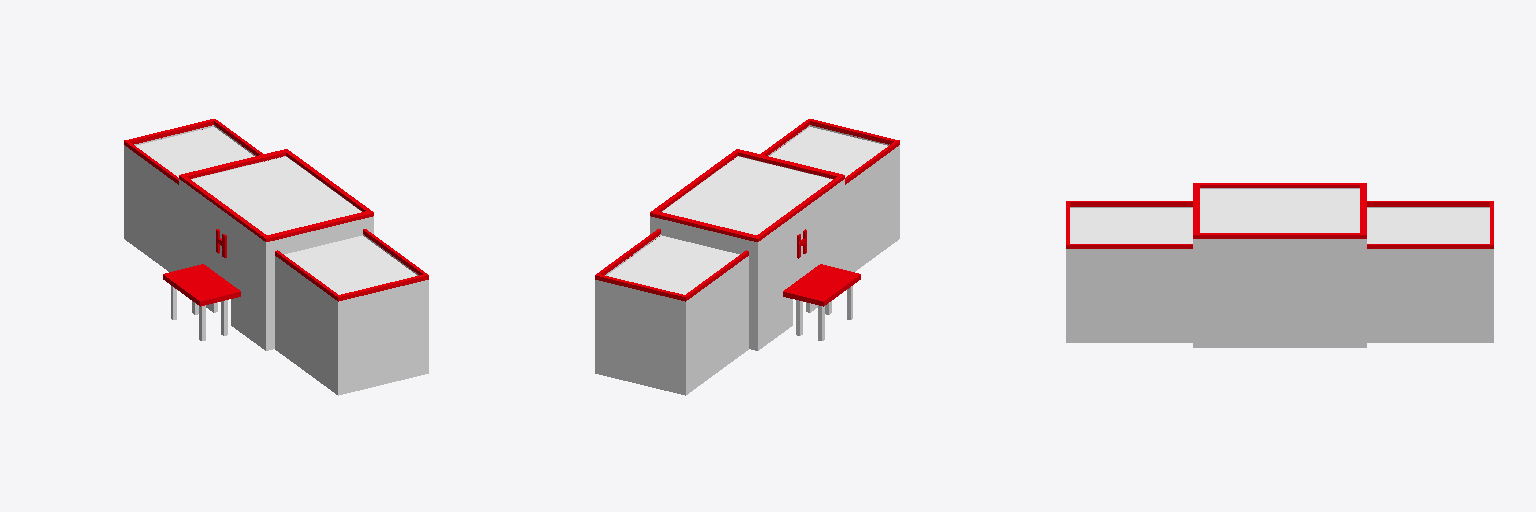
3 renders of one model, left to right at view 1: azimuth 30°, elevation 25°; view 2: azimuth 150°, elevation 25°; view 3: azimuth 270°, elevation 25°, orthographic.
Visible parts, largest first — view 1: Hospital_Cube.017; view 2: Hospital_Cube.017; view 3: Hospital_Cube.017.
Boxes of the visible parts, x1=… form: Hospital_Cube.017: x1=124, y1=119, x2=428, y2=395; Hospital_Cube.017: x1=595, y1=119, x2=899, y2=395; Hospital_Cube.017: x1=1066, y1=183, x2=1493, y2=347.
Size of the model in its own units: 69.03 by 50.49 by 172.
1 materials, 1 textured.